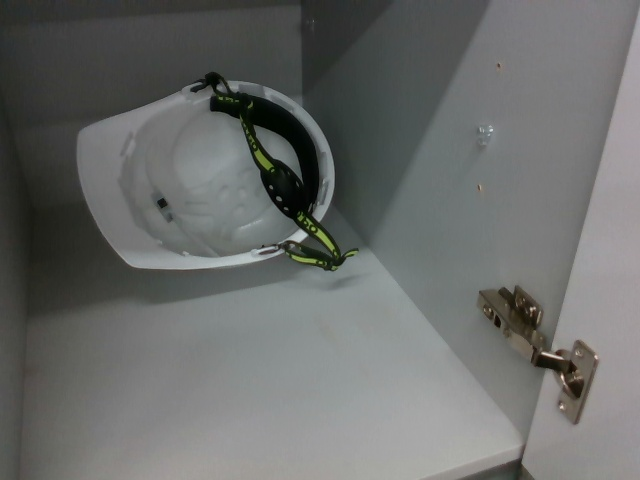helmet: (70, 73, 340, 278)
